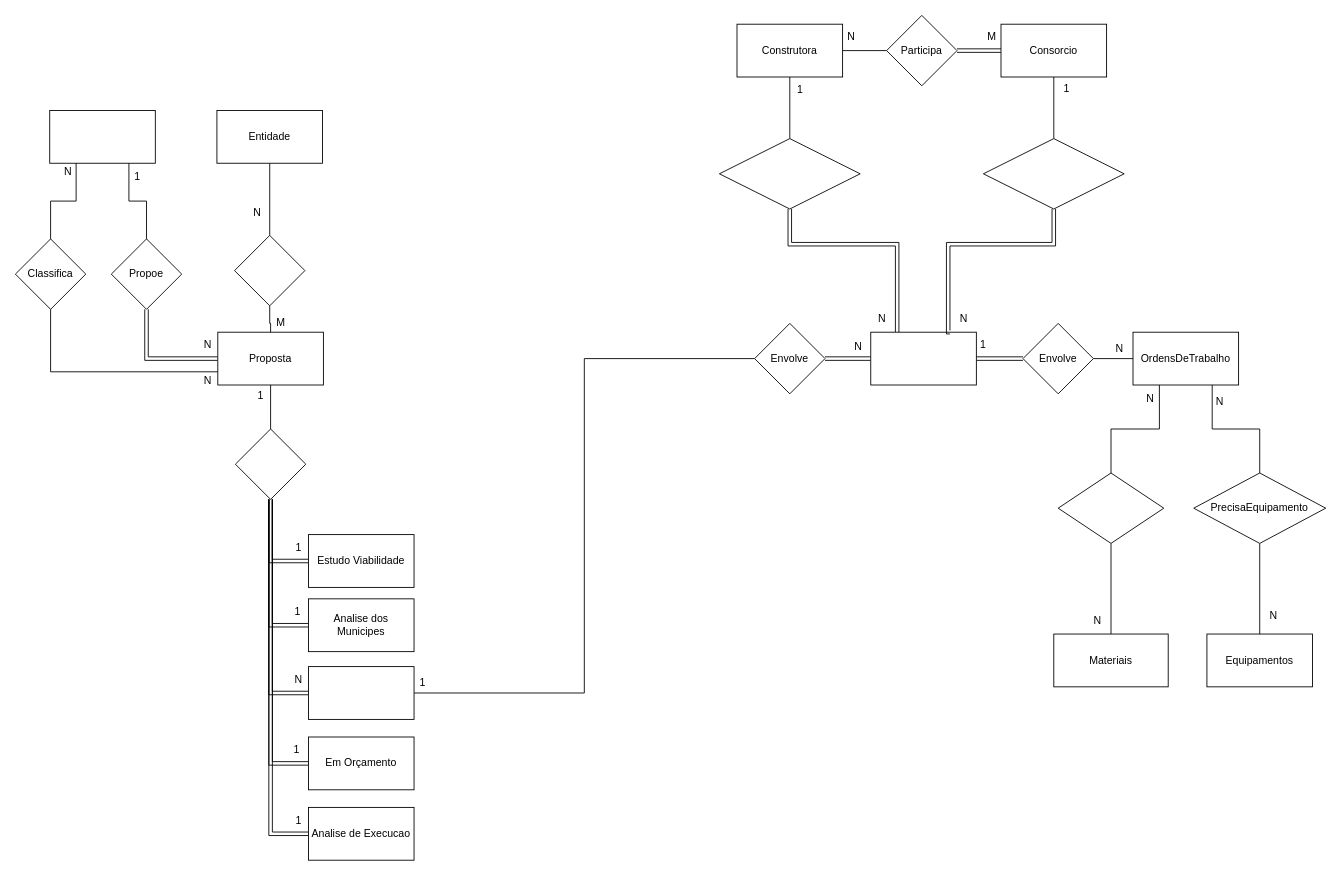
Image size: 1341x876. Some labels were removed from this diagram. The shapes that lost their labels are listed below. From the top down, each one's centre as x and y in pixels, then its label:
At (102,136): "Municipe".
At (789,173): "OrcamentoConstrutora".
At (1053,173): "OrcamentoConsorcio".
At (269,270): "Parece".
At (923,358): "Orcamento".
At (270,463): "Fase".
At (1110,507): "PrecisaMateriais".
At (361,692): "Fase de Execucao".
